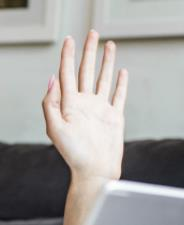down: (38, 28, 131, 174)
